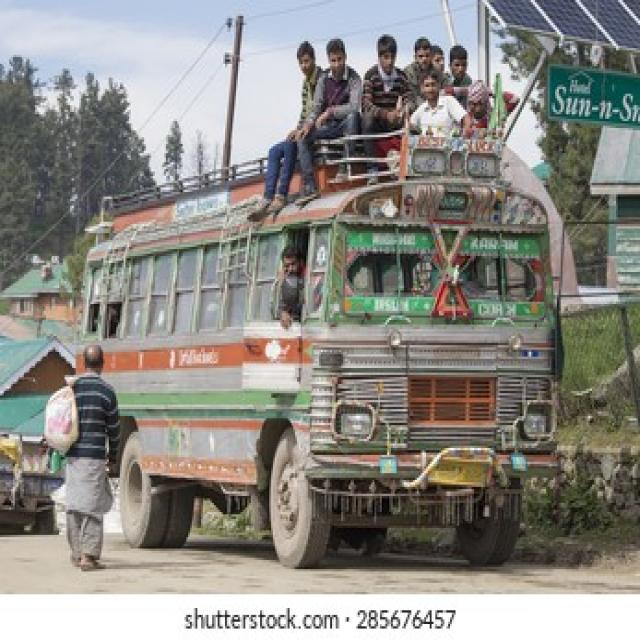bus: (82, 133, 561, 566)
